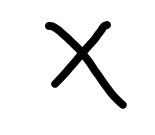mult: (45, 21, 127, 109)
